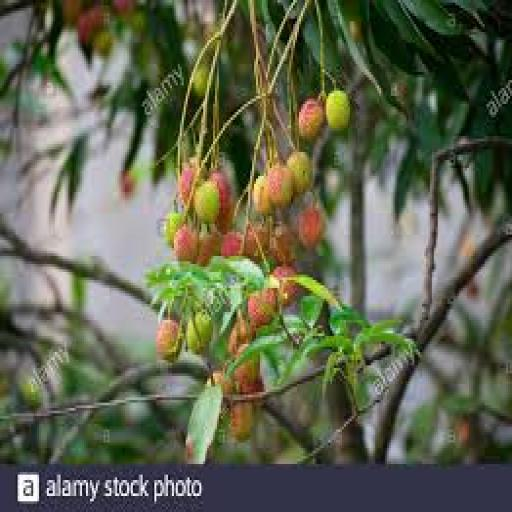lychee: (249, 288, 277, 330), (186, 312, 213, 354), (268, 163, 293, 207), (157, 320, 183, 362), (272, 267, 300, 306), (298, 206, 324, 247), (194, 182, 220, 223), (270, 224, 297, 263), (299, 99, 324, 141), (288, 152, 312, 194), (178, 160, 199, 205), (327, 91, 351, 130), (174, 224, 199, 261), (231, 403, 254, 442), (198, 232, 222, 266), (253, 176, 271, 215), (165, 211, 185, 245), (221, 232, 242, 258)
